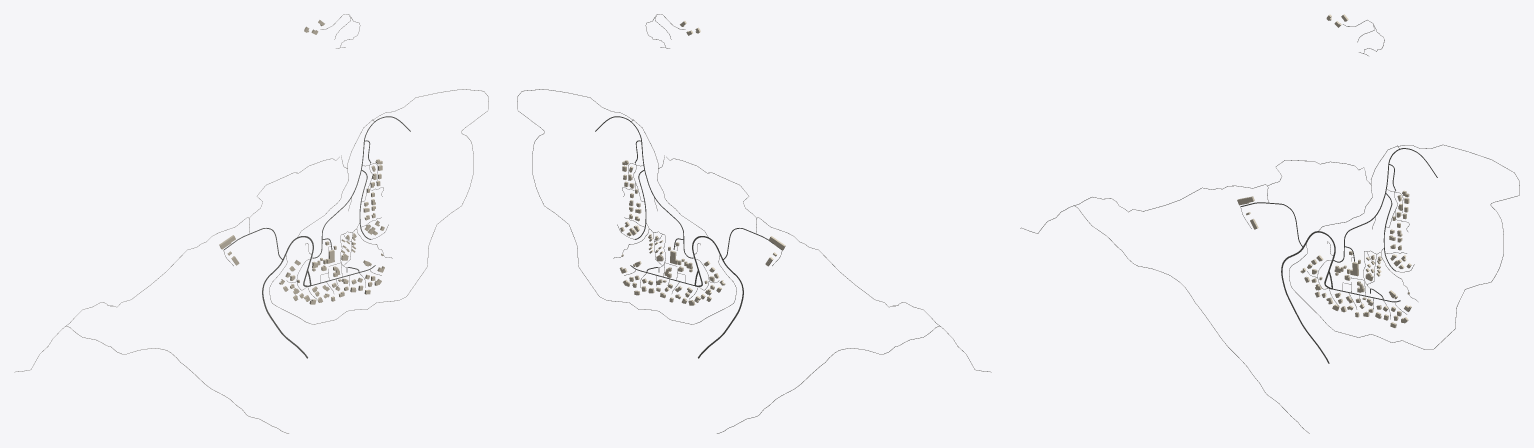
File: historic-palestine-11_34_3525_3289.glb
3 renders of one model, left to right at view 1: azimuth 30°, elevation 25°; view 2: azimuth 150°, elevation 25°; view 3: azimuth 330°, elevation 25°, orthographic. The views are drawn at different scales.
Parts seen in each view (by area): view 1: Road .004; view 2: Road .004; view 3: Road .004.
Boxes of the visible parts, x1,y1,x2,y2 form: Road .004: [269, 89, 488, 324]; Road .004: [517, 89, 736, 324]; Road .004: [1289, 144, 1519, 349].
Bounding box in the file's own units: 1747 × 1431 × 8.7.
